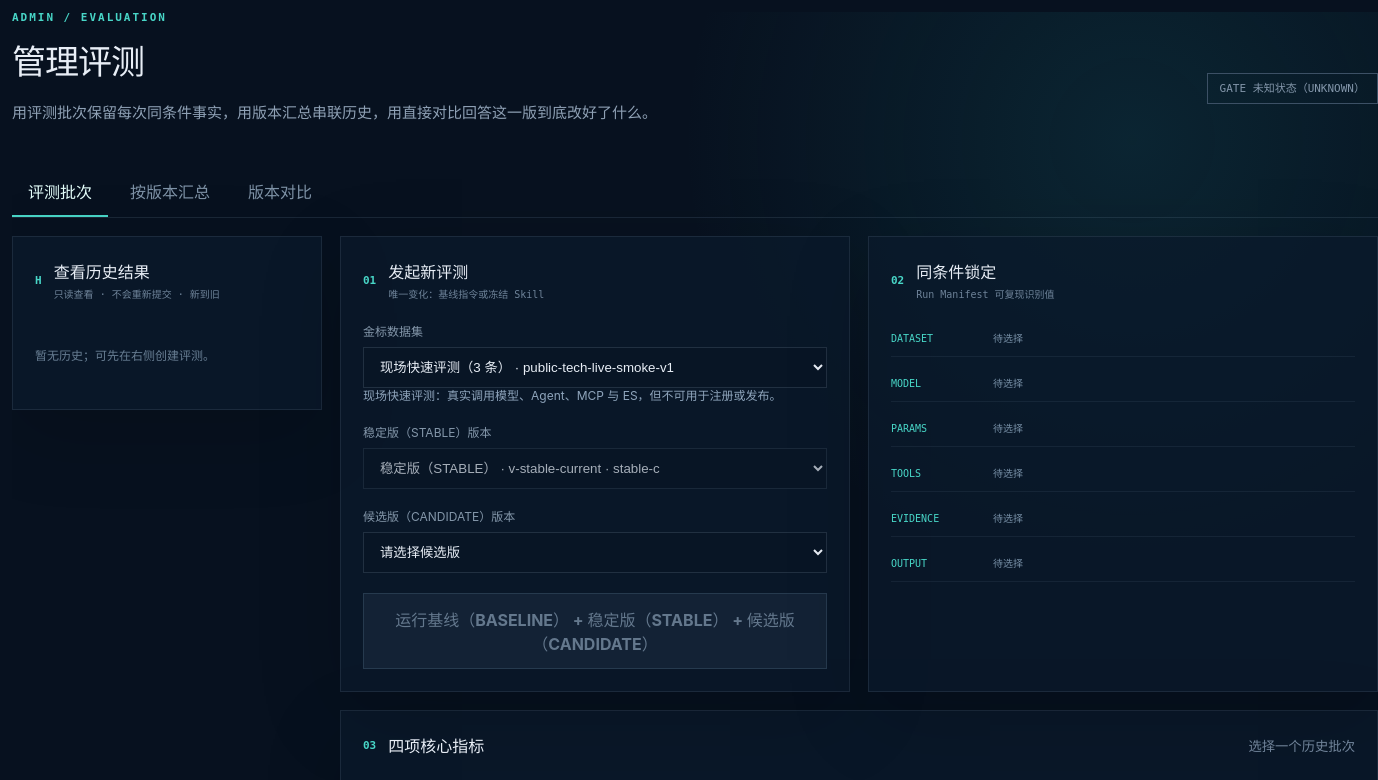
Scenario: EvaluationPage › 已有 Stable 时自动固定唯一正式版且不能以空选项绕过
Expected: the dropdown with test id "stable-version" shows "稳定版（STABLE） · v-stable-current · stable-c", [363,448,827,489]
Select "候选版（CANDIDATE） · v-candidate-next · candidat" in the dropdown with test id "candidate-version" at coordinates (595, 553), box [363,532,827,573]
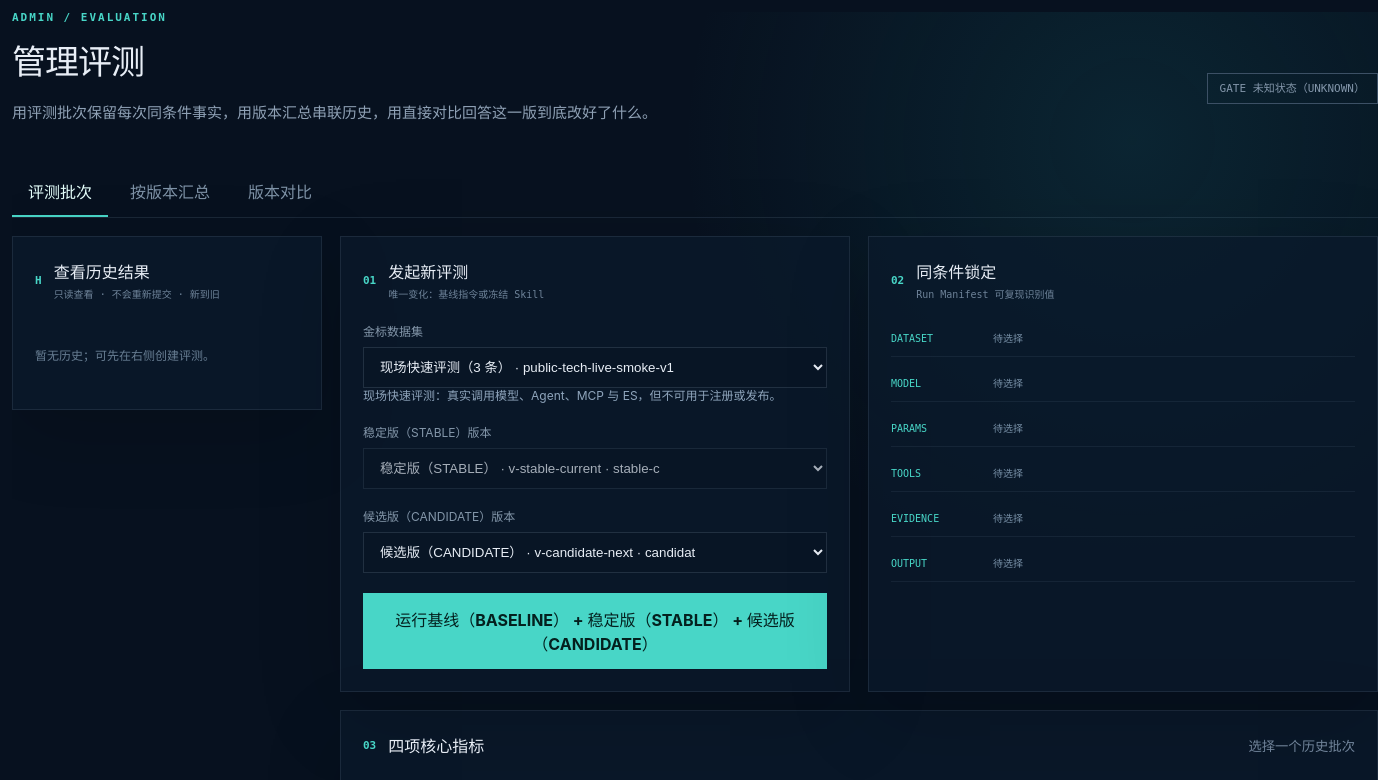
Result: the button with test id "start-evaluation" is enabled at [363,593,827,669]
